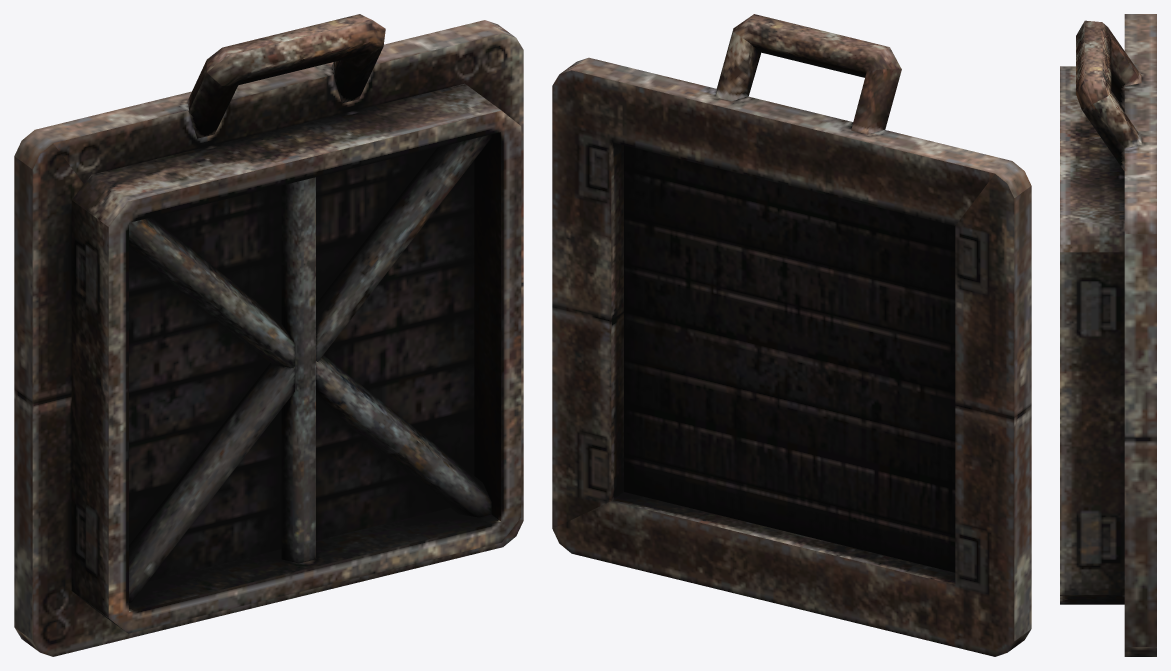
File: vent_grating.dae
The picture shows the model from 3 angles, left to right: view 1: azimuth 30°, elevation 25°; view 2: azimuth 150°, elevation 25°; view 3: azimuth 270°, elevation 25°; orthographic projection. The views are drawn at different scales.
Parts seen in each view (by area): view 1: grating_; view 2: grating_; view 3: grating_.
Part boxes in pixels (<box>): grating_: <box>14,14,523,656</box>; grating_: <box>552,14,1031,656</box>; grating_: <box>1060,14,1156,656</box>.
Size of the model in its own units: 1.48 by 1.67 by 0.2883.
Materials: 1 (1 with a texture image).
